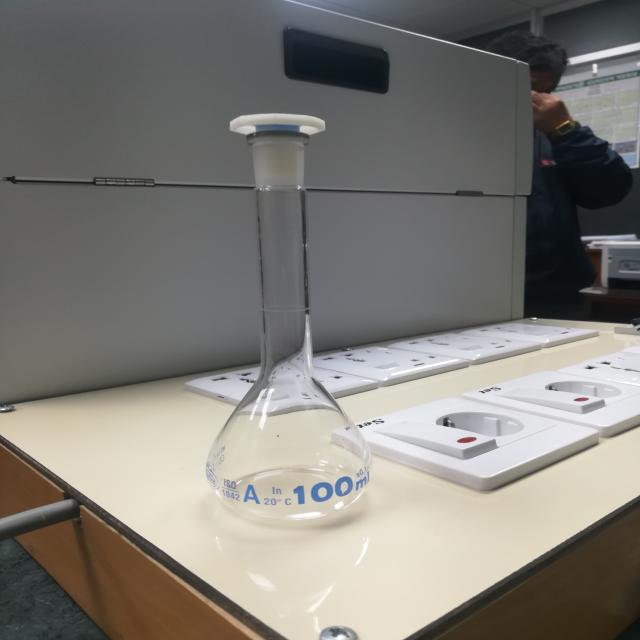Volumetric_Flask: (181, 78, 404, 548)
